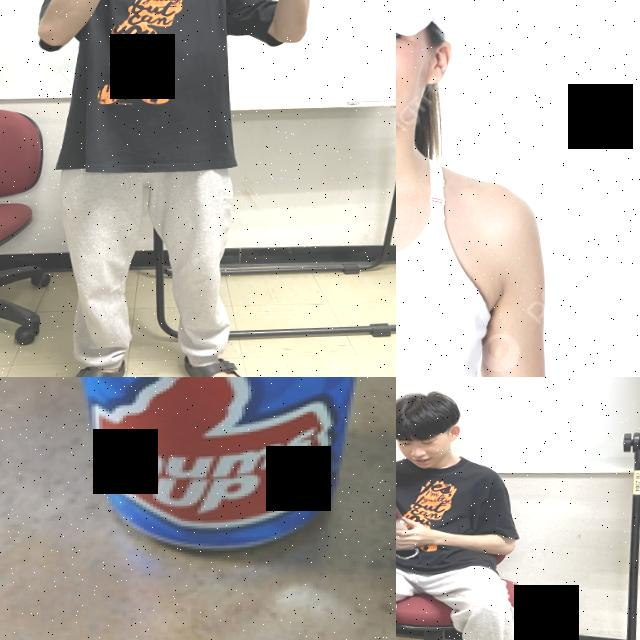can: (53, 377, 389, 558)
